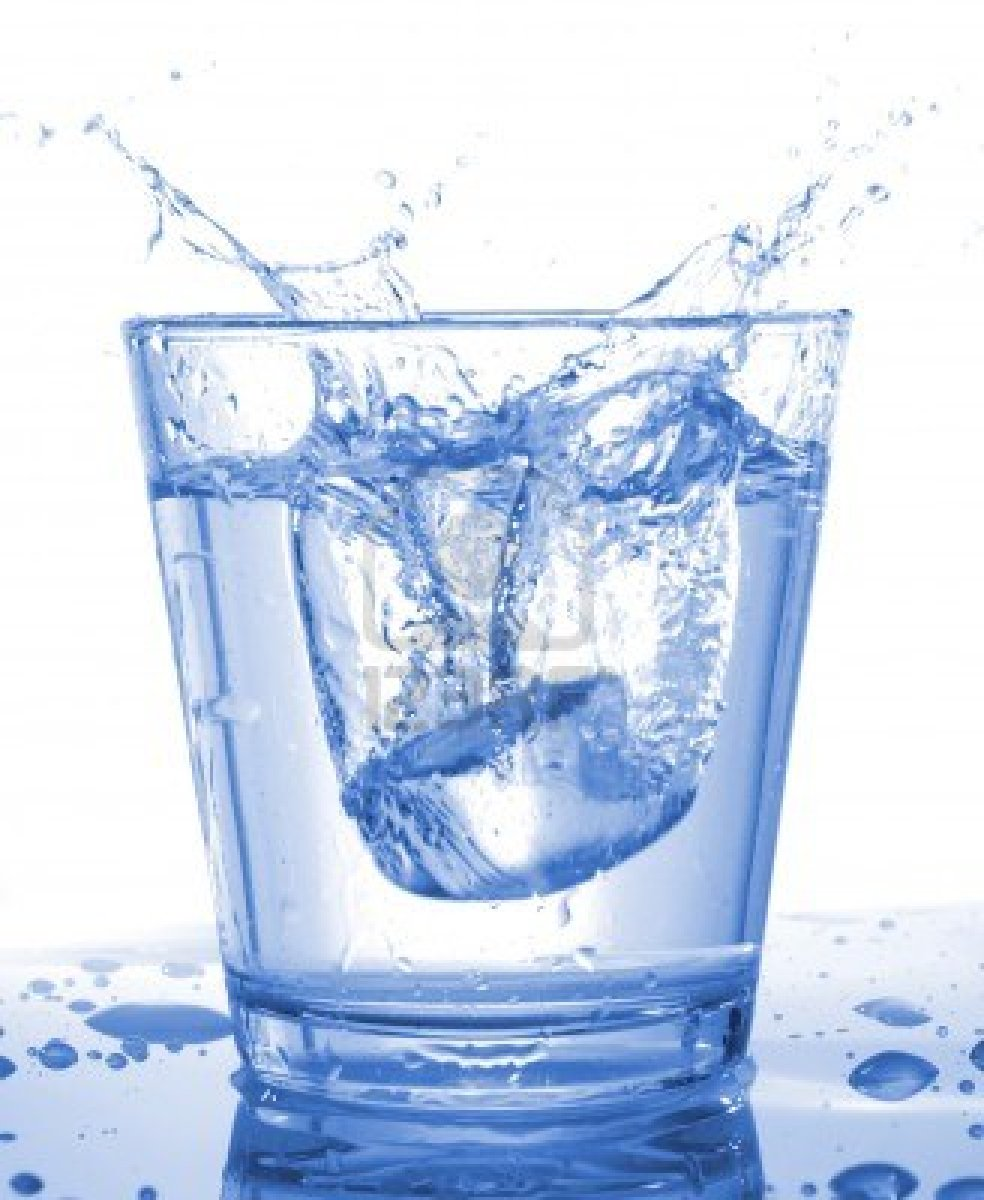glass of water: (174, 337, 732, 1065)
